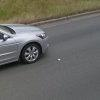Car: (0, 16, 55, 68)
